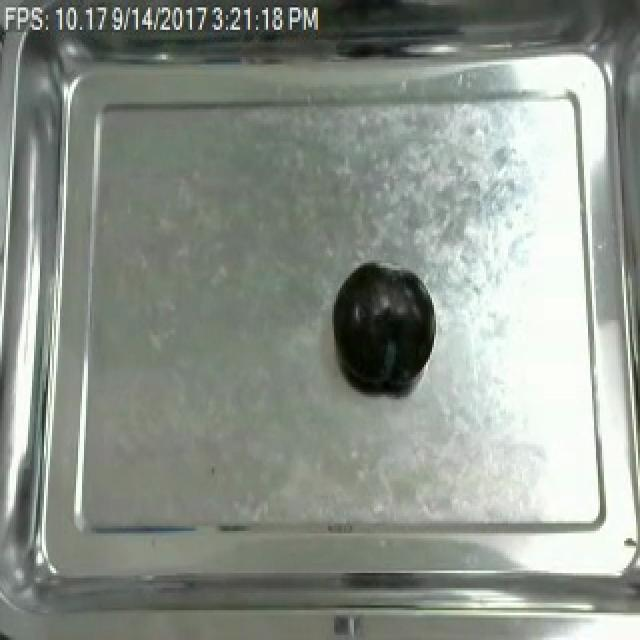Fruit: (328, 258, 434, 394)
